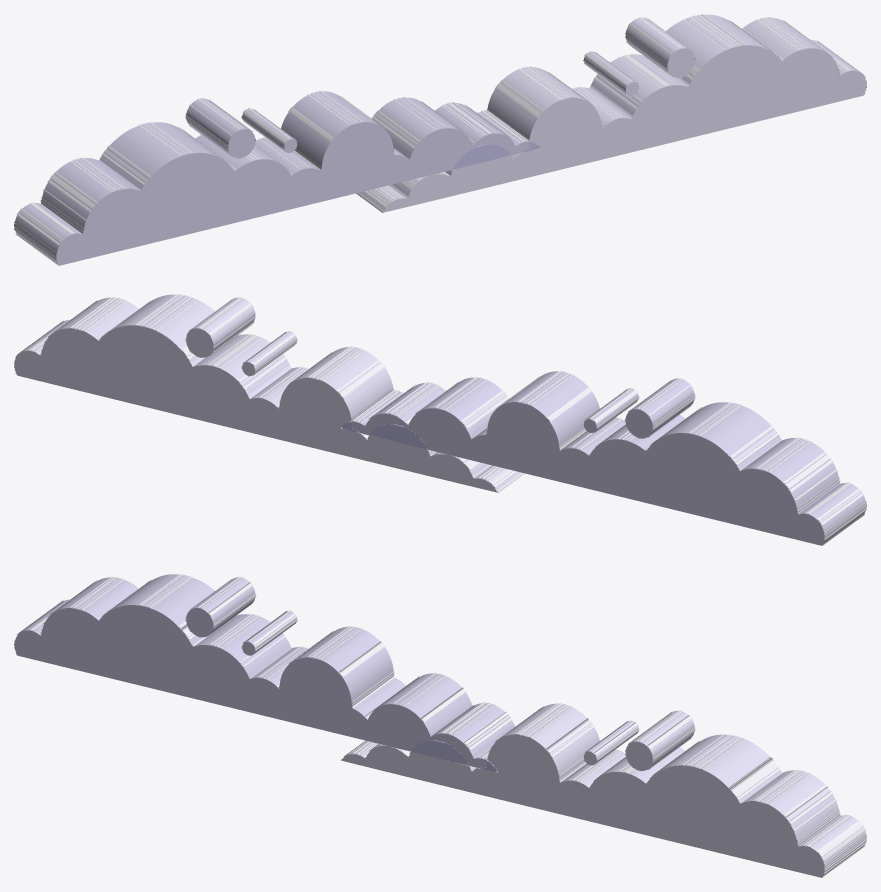
The model's file is clouds_3D.fbx.
The picture shows the model from 3 angles, top to bottom: view 1: azimuth 30°, elevation 25°; view 2: azimuth 150°, elevation 25°; view 3: azimuth 330°, elevation 25°; orthographic projection.
Visible parts, largest first — view 1: path50; view 2: path50; view 3: path50.
Part boxes in pixels (x1,y1,x2,y2): path50: (14, 14, 866, 265); path50: (14, 294, 866, 545); path50: (14, 574, 866, 877).
Size of the model in its own units: 55.7 by 7.79 by 5.
